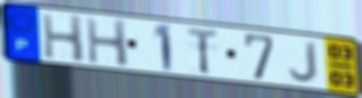1: (152, 23, 175, 74)
7: (242, 32, 275, 81)
H: (40, 12, 87, 65), (84, 16, 131, 69)
J: (287, 40, 320, 84)
T: (185, 25, 221, 76)
